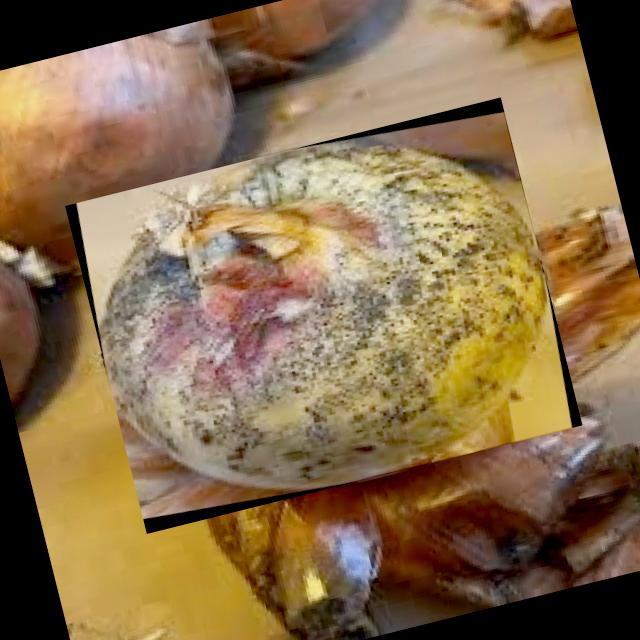mould: (101, 147, 546, 487)
